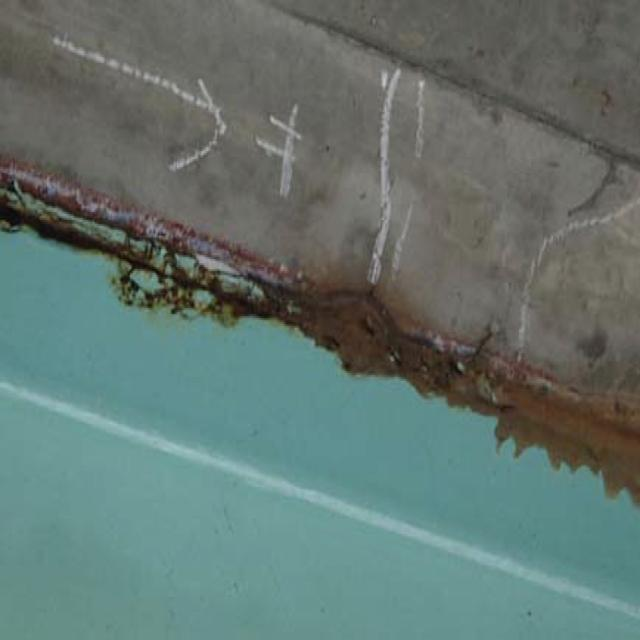corrosion: (10, 158, 627, 496)
